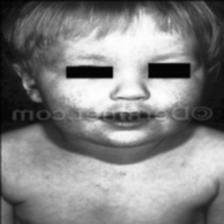Non-Cancerous Skin Condition: (53, 122, 182, 156), (145, 80, 200, 106), (48, 87, 94, 107)
